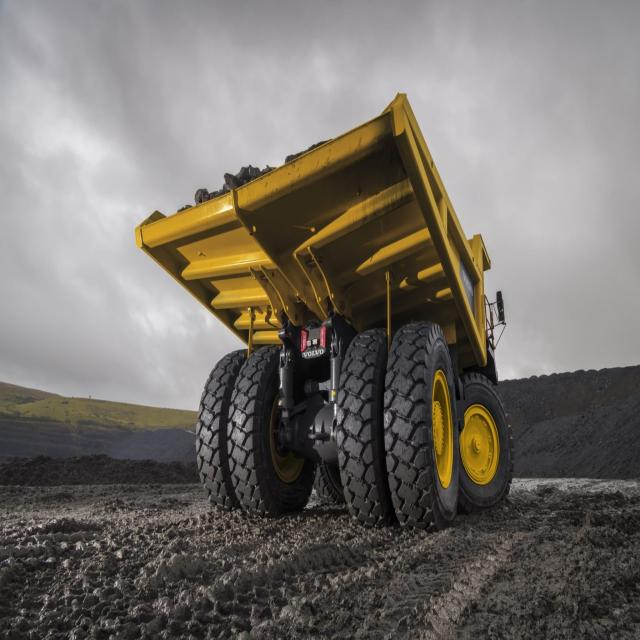dump_truck: (132, 76, 540, 527)
